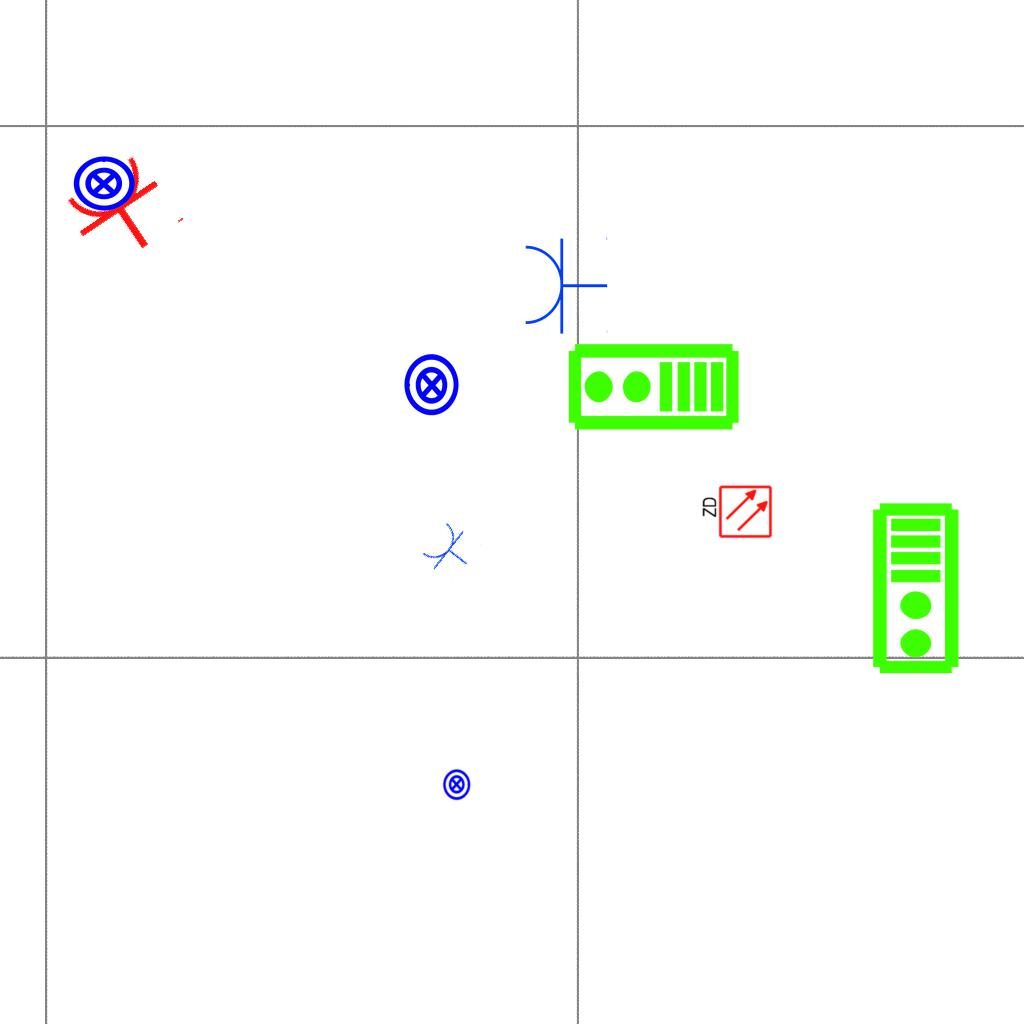Gegensprechanlage_mit_Video: (870, 501, 965, 677), (565, 341, 741, 436)
Schukosteckdose_einfach: (57, 146, 190, 276), (521, 235, 608, 335), (417, 517, 483, 584)
Taster_beleuchtet: (399, 352, 465, 418), (71, 151, 137, 217), (440, 768, 473, 801)
ZD_Melder_in_Zwischendecke_mit_Revisionsoeffnung_mind_40_x_40_cm: (699, 484, 773, 541)
